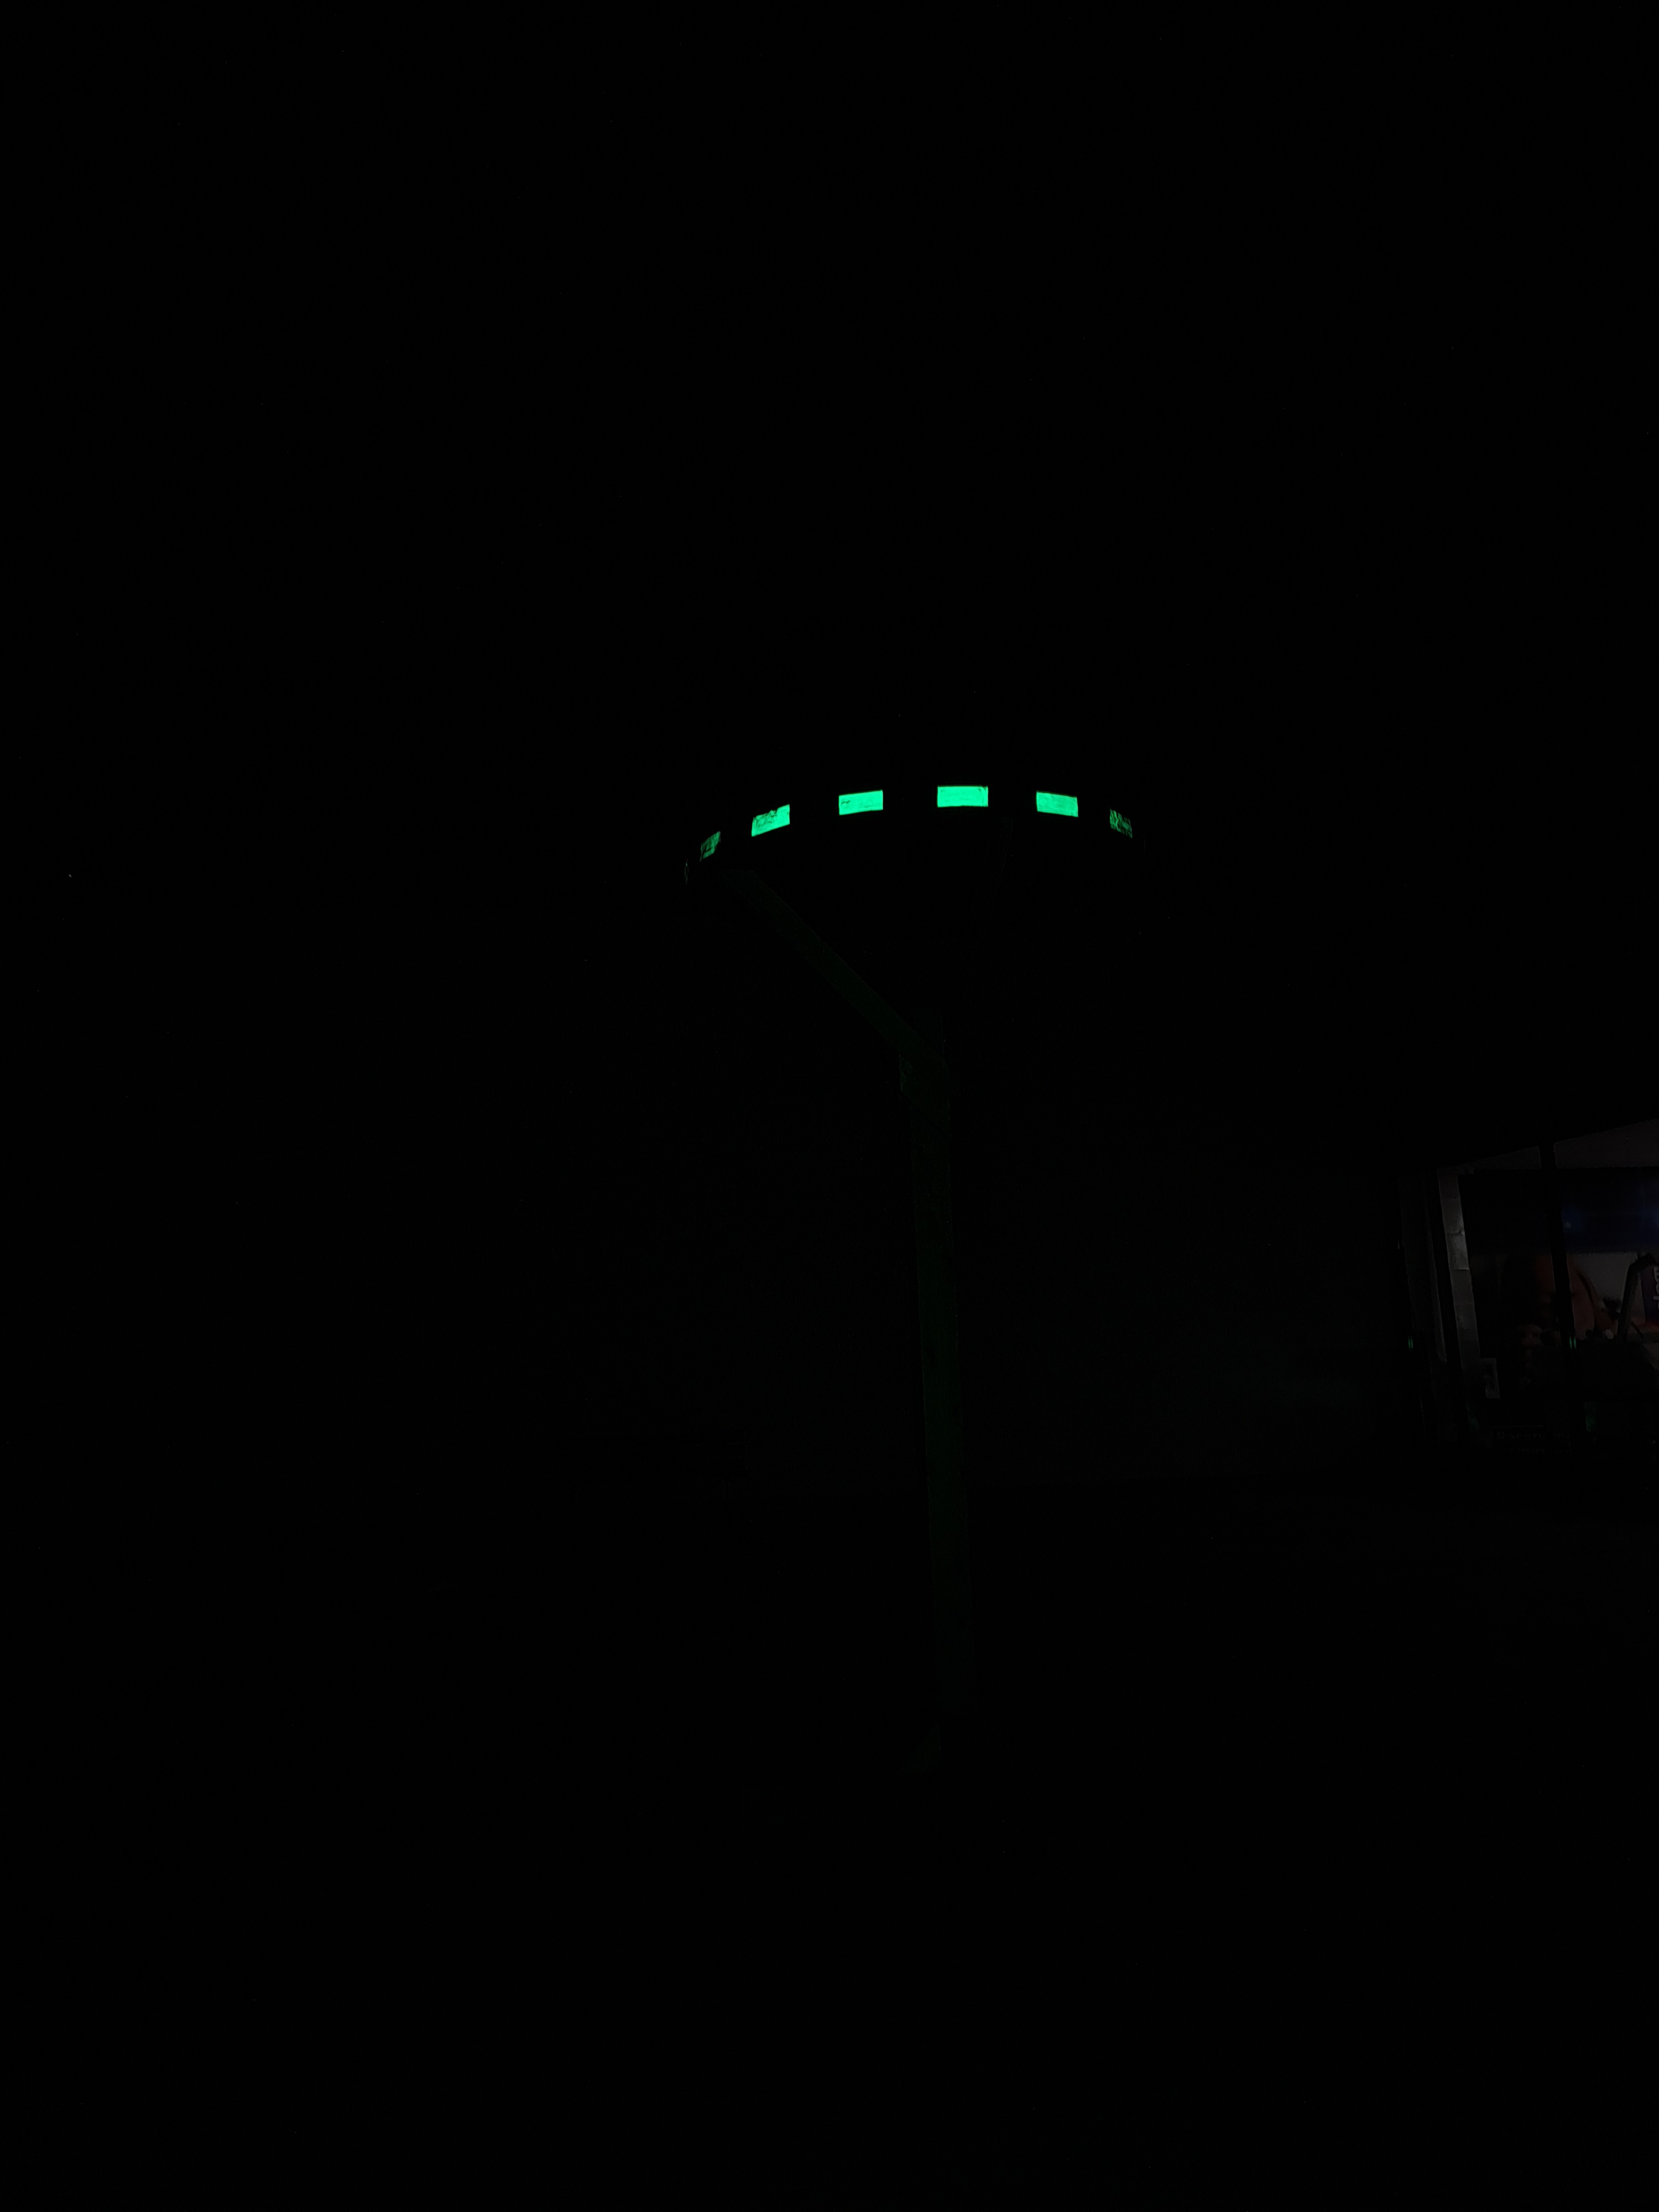hoop: (680, 756, 1180, 885)
